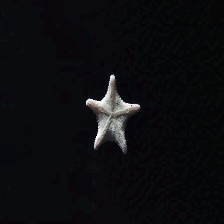starfish: (86, 74, 141, 155)
